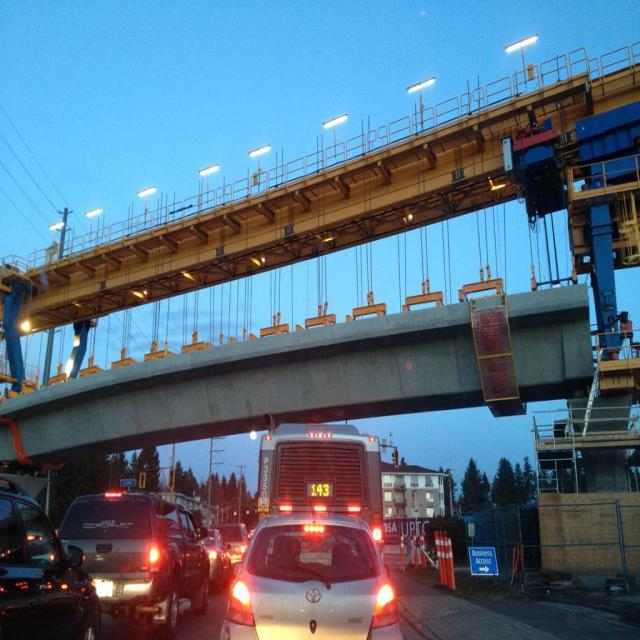car: (230, 497, 388, 635)
